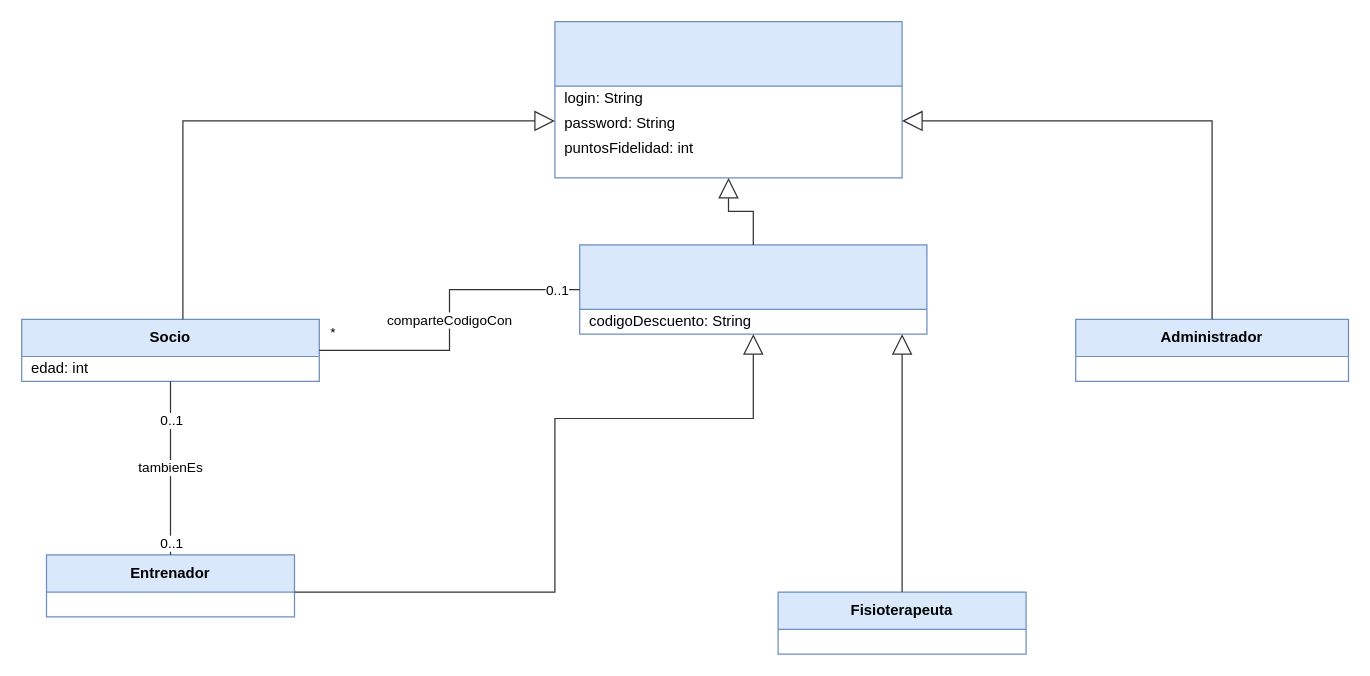
The diagram is 1370 pixels wide and 676 high, and some of its shapes have lost their labels. Here are the shapes that lost their labels. From the top down, the box of each, then its label:
(554, 20, 902, 178): «abstract» Usuario
(578, 244, 927, 334): «abstract» Empleado
